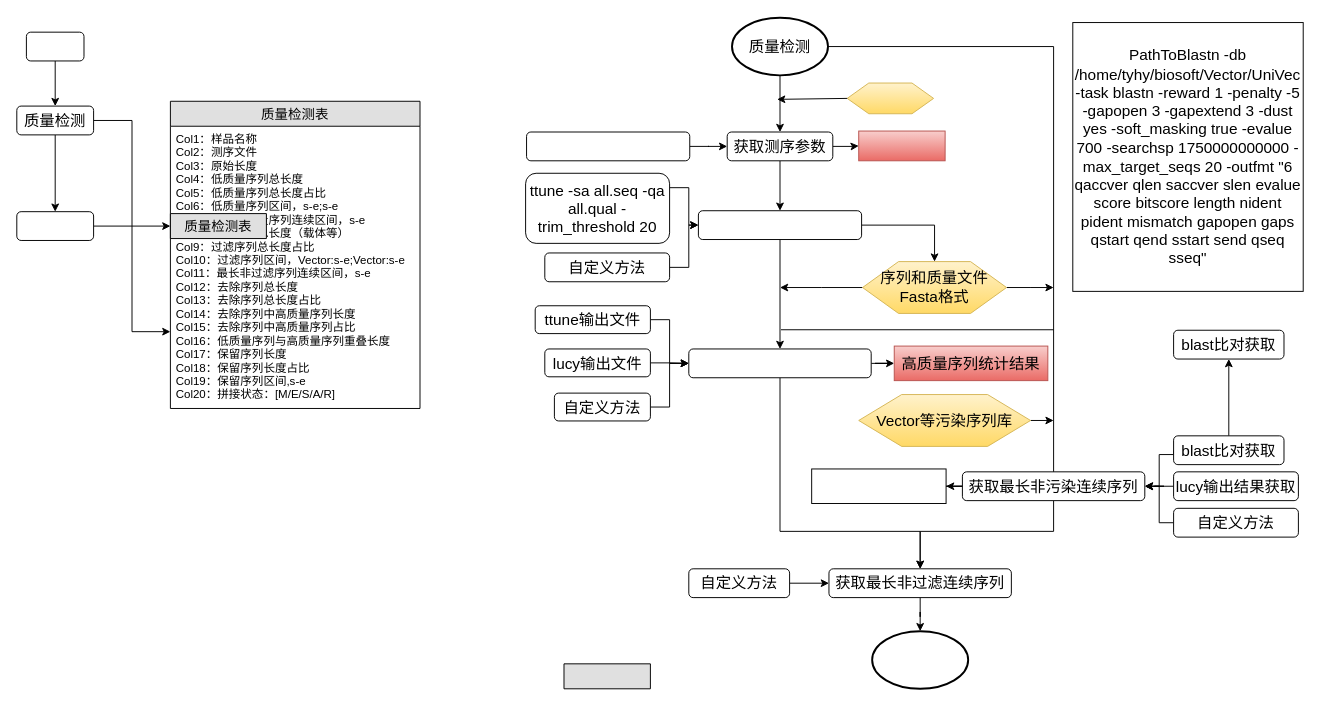
Image size: 1320x706. Some labels were removed from this diagram. The shapes that lost their labels are listed below. From the top down, each one's centre as x and y in pixels, then its label:
(x=54, y=46): 下机
(x=890, y=98): AB1文件
(x=608, y=146): 参考thermo的云端工具
(x=901, y=145): 参数信息
(x=55, y=225): 拼接
(x=779, y=225): 获取序列及碱基质量
(x=779, y=363): 获取最长高质量连续序列
(x=878, y=486): 污染序列统计结果
(x=606, y=676): 拼接状态
(x=920, y=659): 结束
